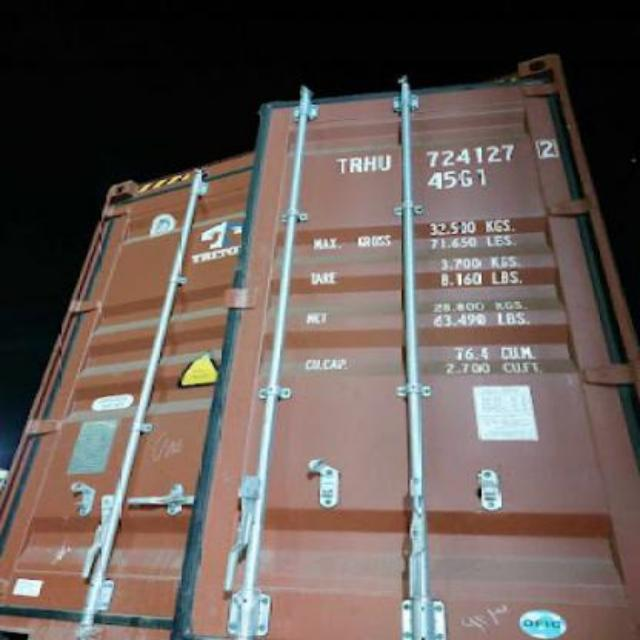1: (472, 142, 484, 166)
2: (484, 140, 500, 168), (536, 139, 558, 159), (438, 145, 454, 169)
4: (454, 142, 470, 168)
7: (498, 138, 516, 166), (422, 145, 438, 169)
H: (362, 150, 378, 180)
R: (348, 150, 362, 177)
T: (332, 153, 348, 180)
U: (376, 148, 394, 176)
